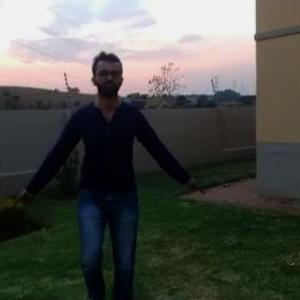land: (19, 54, 192, 280)
